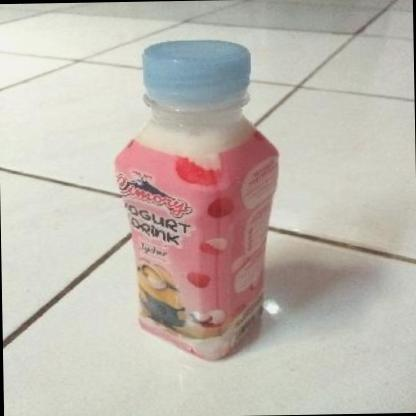plastic_bottles: (110, 33, 287, 365)
